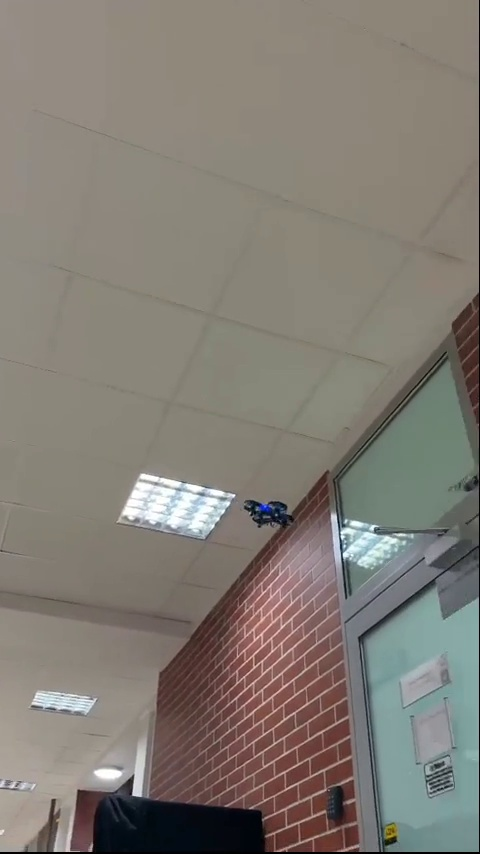drone: (245, 491, 298, 530)
